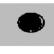correct: (13, 9, 50, 35)
